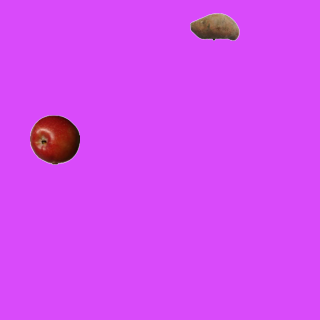Apple Braeburn: (29, 114, 79, 164)
Potato Sweet: (189, 1, 239, 51)
